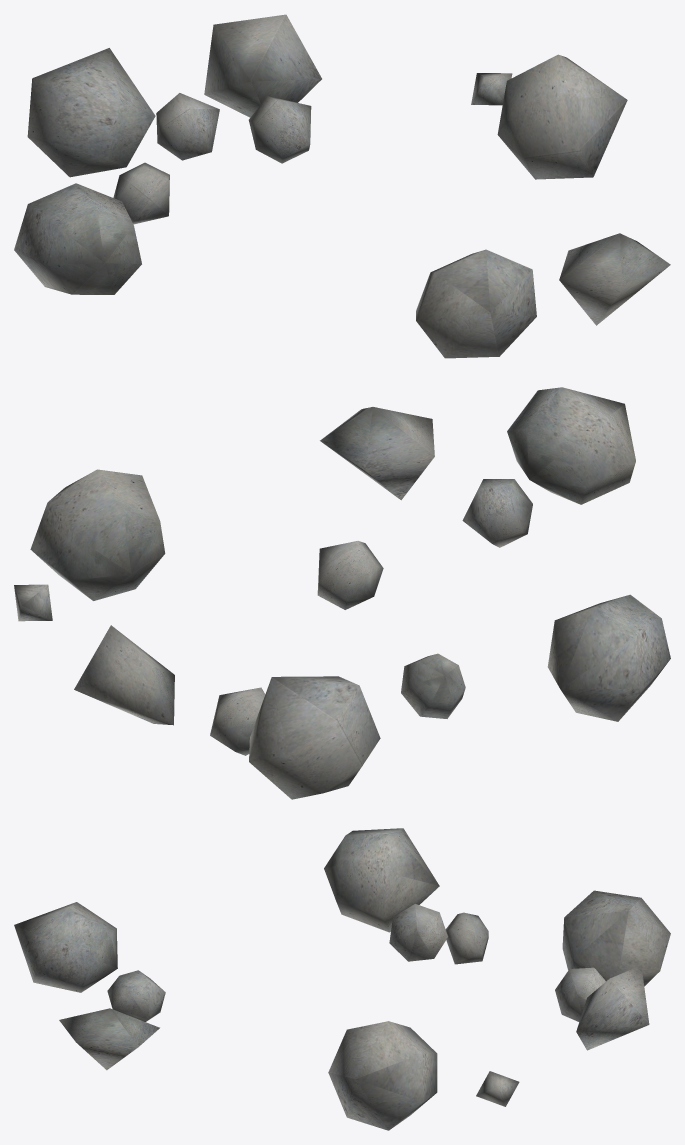
The model's file is stone_effect17.obj.
3 renders of one model, top to bottom at view 1: azimuth 30°, elevation 25°; view 2: azimuth 150°, elevation 25°; view 3: azimuth 270°, elevation 25°, orthographic. The views are drawn at different scales.
Parts seen in each view (by area): view 1: Sphere011; view 2: Sphere011; view 3: Sphere011.
Boxes of the visible parts, x1,y1,x2,y2 form: Sphere011: (14, 14, 670, 358); Sphere011: (14, 387, 670, 799); Sphere011: (14, 828, 670, 1130).
Bounding box in the file's own units: 253 × 56.54 × 289.
Materials: 1 (1 with a texture image).
